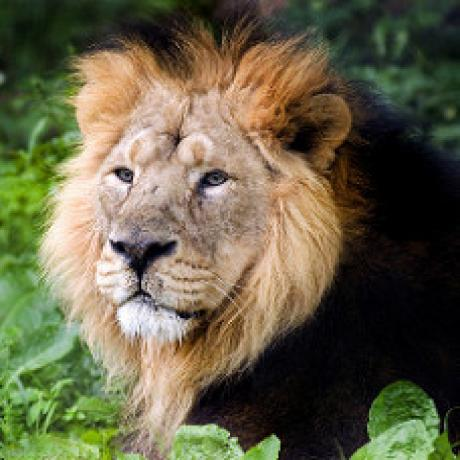Lion: (45, 19, 460, 460)
